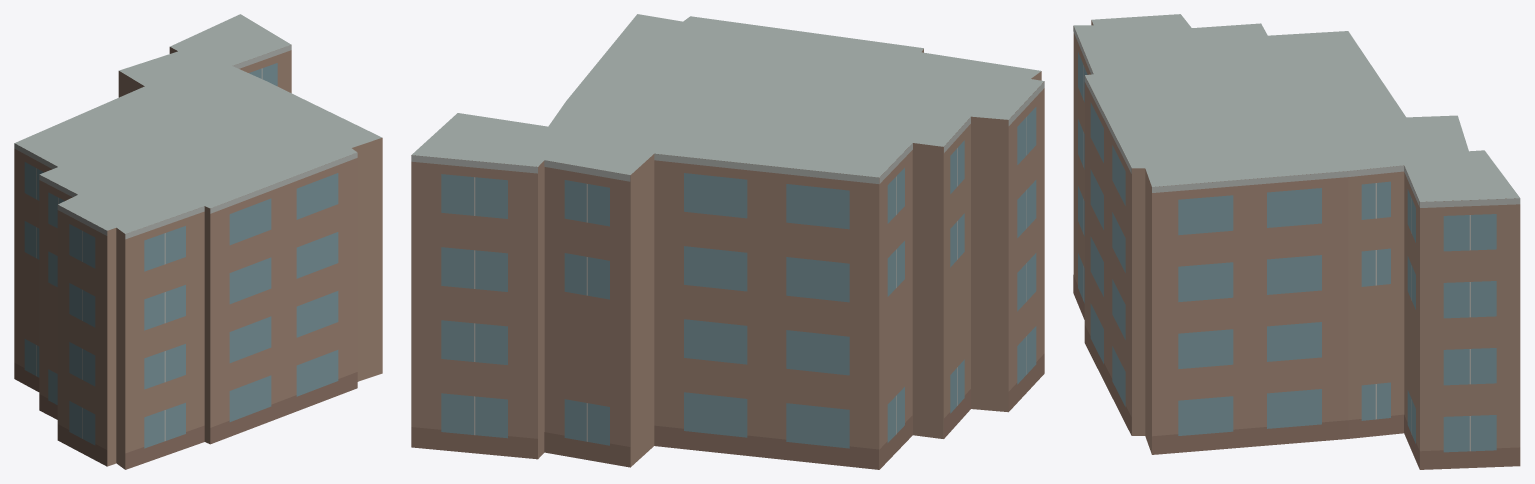
The model's file is survey-upis-33025716.glb.
The picture shows the model from 3 angles, left to right: view 1: azimuth 30°, elevation 25°; view 2: azimuth 150°, elevation 25°; view 3: azimuth 270°, elevation 25°; orthographic projection. The views are drawn at different scales.
Visible parts, largest first — view 1: survey-upis-33025716.tmp; view 2: survey-upis-33025716.tmp; view 3: survey-upis-33025716.tmp.
Boxes of the visible parts, left/top/right/bottom form: survey-upis-33025716.tmp: left=14, top=14, right=382, bottom=469; survey-upis-33025716.tmp: left=411, top=14, right=1044, bottom=469; survey-upis-33025716.tmp: left=1073, top=14, right=1520, bottom=469.
Bounding box in the file's own units: 16.11 × 10.7 × 16.19.
